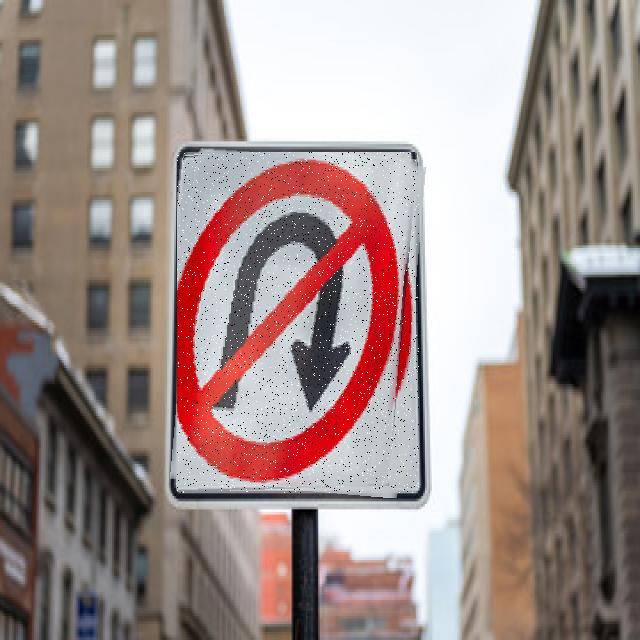no u turn: (177, 152, 419, 493)
